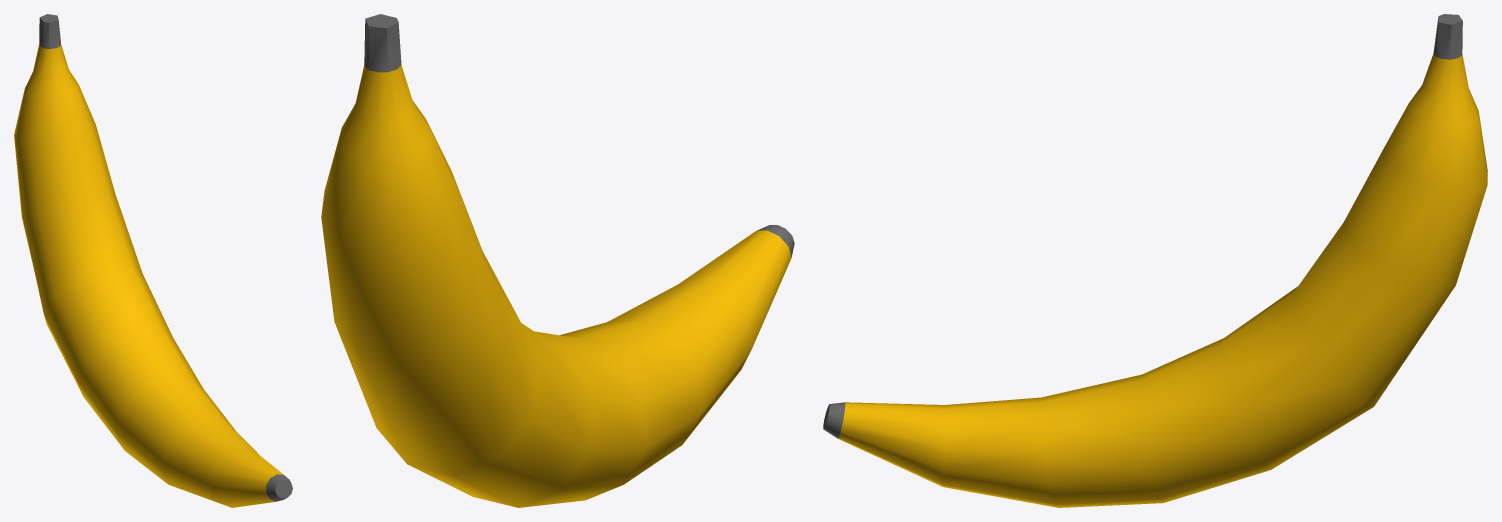
Rendered from Banana_1.fbx.
The picture shows the model from 3 angles, left to right: view 1: azimuth 30°, elevation 25°; view 2: azimuth 150°, elevation 25°; view 3: azimuth 270°, elevation 25°; orthographic projection. The views are drawn at different scales.
Visible parts, largest first — view 1: Banana_1; view 2: Banana_1; view 3: Banana_1.
Part boxes in pixels (left/top/right/bottom): Banana_1: left=14, top=14, right=292, bottom=507; Banana_1: left=321, top=14, right=794, bottom=507; Banana_1: left=823, top=14, right=1487, bottom=507.
Size of the model in its own units: 0.0357 by 0.1308 by 0.1635.
